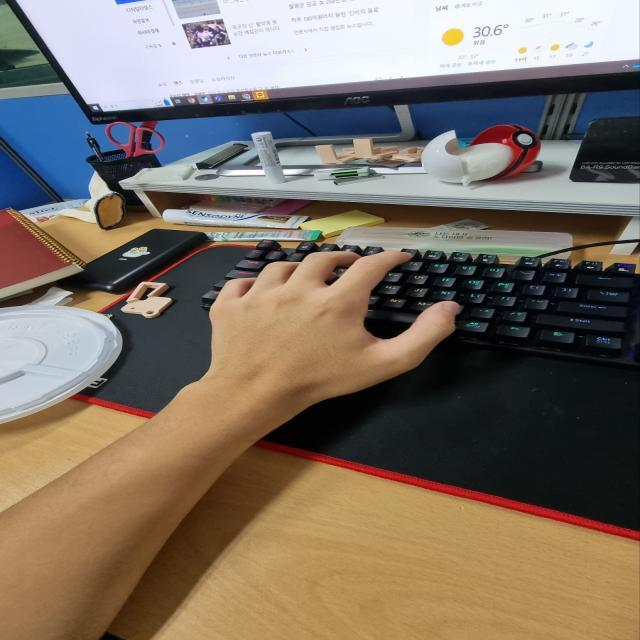keyboard-with-hands: (193, 236, 640, 364)
